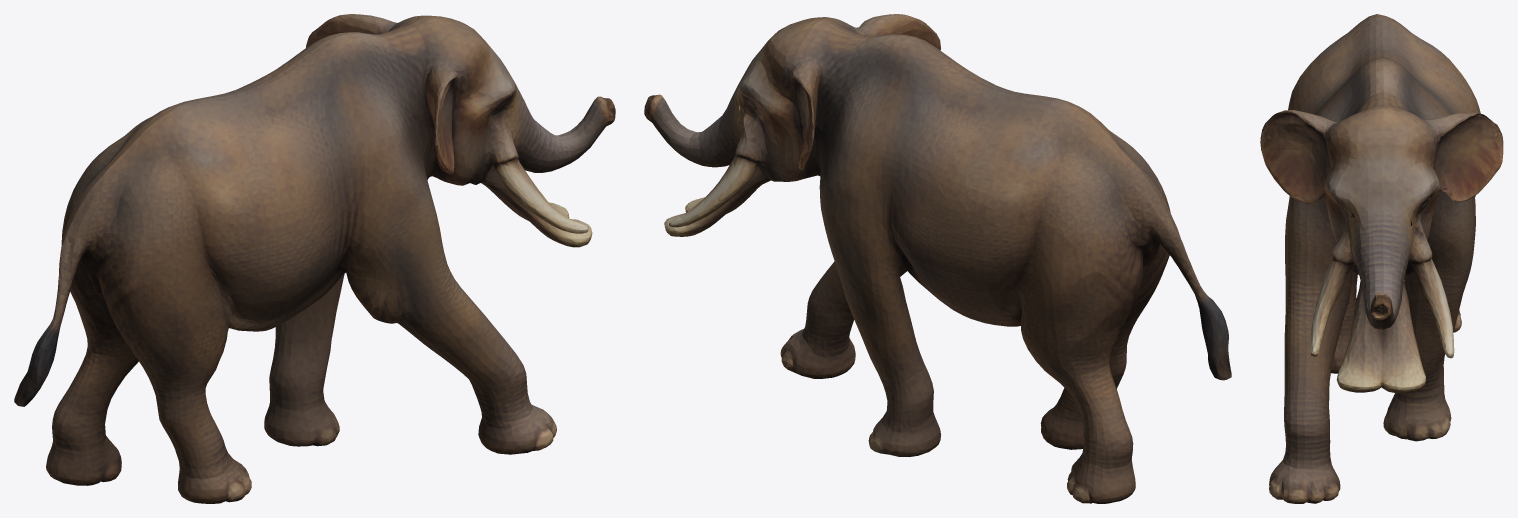
3 views of the same model, side by side, from view 1: azimuth 30°, elevation 25°; view 2: azimuth 150°, elevation 25°; view 3: azimuth 270°, elevation 25° (orthographic). The views are drawn at different scales.
Parts seen in each view (by area): view 1: world; view 2: world; view 3: world.
Boxes of the visible parts, bbox=[...] form: world: bbox=[14, 14, 615, 503]; world: bbox=[644, 14, 1231, 503]; world: bbox=[1260, 14, 1503, 503].
Size of the model in its own units: 0.998 by 0.6514 by 0.3816.
1 material, 1 textured.
